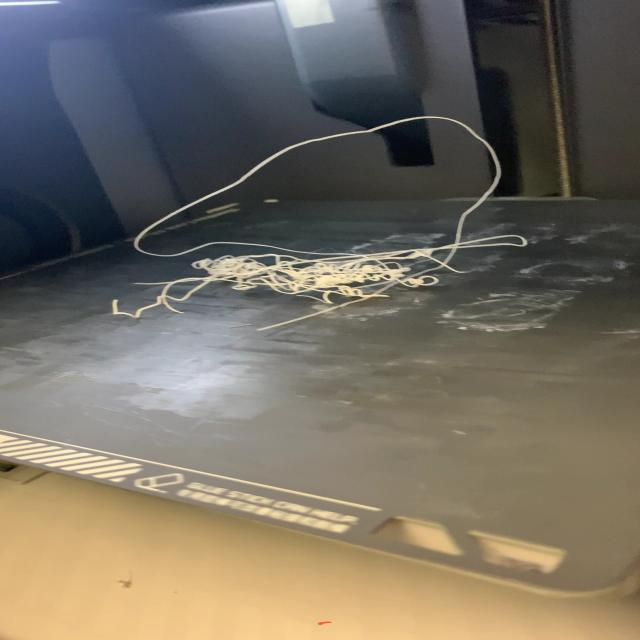spaghetti: (106, 113, 532, 334)
